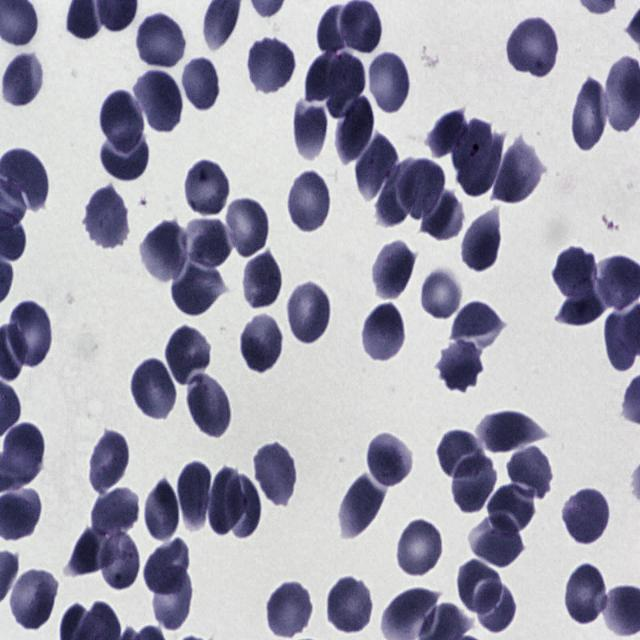red blood cell: (473, 409, 549, 456), (139, 218, 190, 288), (496, 137, 548, 204), (285, 282, 336, 348), (470, 509, 526, 569), (6, 300, 54, 370), (132, 70, 184, 134), (137, 10, 188, 75), (11, 565, 62, 630), (378, 156, 424, 228), (455, 121, 503, 190), (394, 519, 446, 582), (148, 566, 195, 635), (98, 85, 144, 155), (83, 184, 131, 251), (130, 358, 180, 422), (252, 439, 297, 510), (5, 147, 50, 218), (172, 259, 225, 319), (224, 195, 272, 261), (163, 325, 213, 388), (186, 373, 233, 439), (247, 35, 297, 97), (560, 489, 610, 550), (266, 578, 315, 640), (340, 475, 386, 541), (184, 159, 232, 222), (451, 452, 497, 517), (566, 557, 606, 631), (507, 17, 557, 76), (366, 51, 412, 115), (238, 312, 284, 374), (398, 159, 446, 218), (328, 574, 372, 638), (88, 429, 132, 493), (356, 133, 398, 200), (573, 79, 611, 153), (176, 457, 215, 529), (241, 251, 286, 313), (92, 486, 143, 540), (1, 48, 46, 109), (372, 239, 416, 301), (96, 530, 140, 592), (462, 209, 503, 274), (484, 484, 538, 533), (145, 538, 192, 594), (337, 101, 376, 168), (457, 556, 501, 615), (607, 302, 640, 379), (552, 245, 598, 300), (362, 306, 402, 369), (420, 265, 464, 322), (473, 579, 517, 635), (99, 133, 148, 183), (208, 464, 242, 536), (324, 53, 366, 111), (144, 478, 182, 542), (290, 176, 330, 236), (436, 429, 485, 477), (454, 302, 504, 349), (304, 53, 350, 104), (292, 97, 328, 162), (508, 446, 552, 499), (226, 478, 264, 539), (184, 220, 233, 267), (367, 435, 413, 485), (68, 524, 108, 580), (182, 55, 220, 112), (314, 5, 356, 56), (340, 1, 382, 52), (424, 191, 465, 239), (428, 110, 468, 158), (438, 346, 482, 388), (557, 290, 607, 324)
